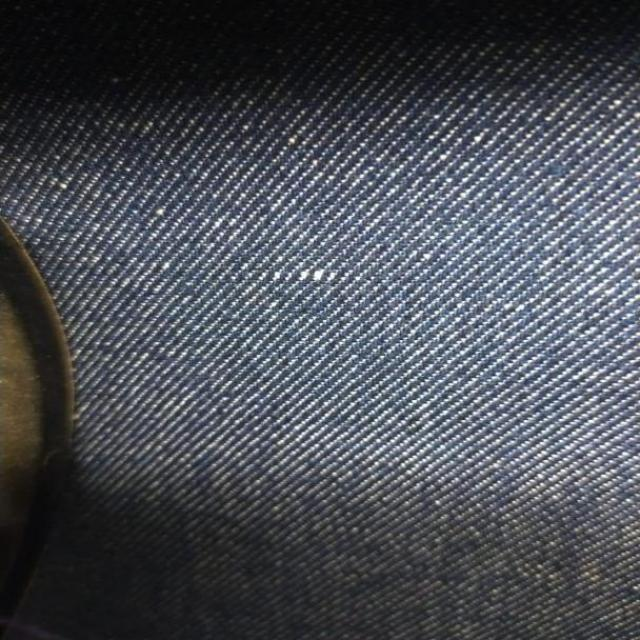Knot: (265, 268, 338, 284)
